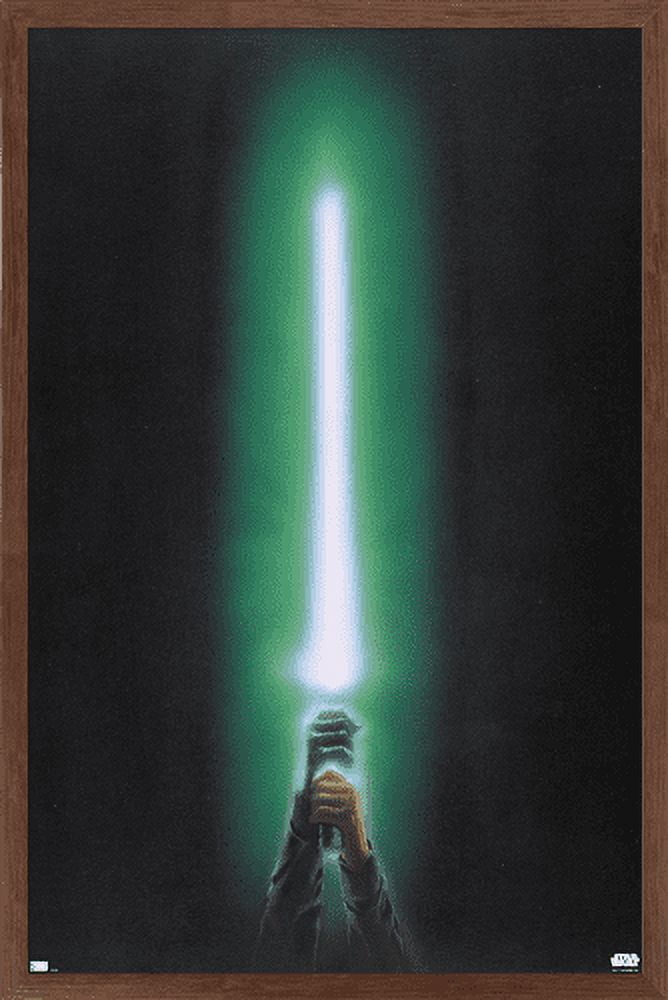lightsaber: (262, 151, 441, 924)
